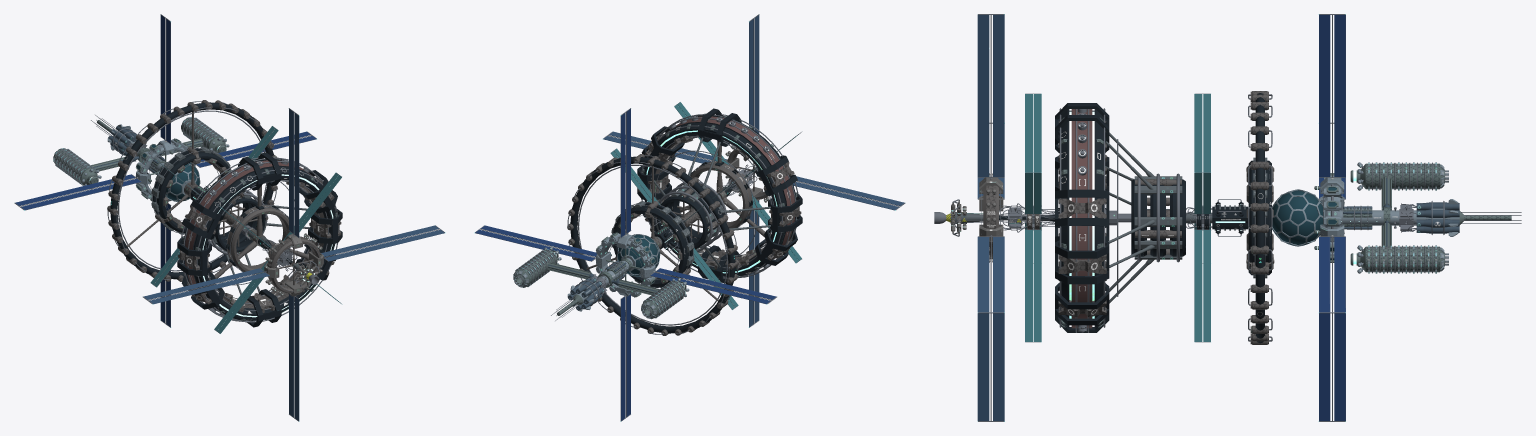
Rendered from building-base-mmo.glb.
The picture shows the model from 3 angles, left to right: view 1: azimuth 30°, elevation 25°; view 2: azimuth 150°, elevation 25°; view 3: azimuth 270°, elevation 25°; orthographic projection. The views are drawn at different scales.
Parts seen in each view (by area): view 1: Cylinder.007_low, Torus_low, Cube.016_low, Cylinder.108_low, Cube.133_low, Cube.014_low, Cube.132_low, Cube.017_low, Cube.015_low, Cylinder.111_low, Cylinder.110_low, Cube.155_low (+17 smaller); view 2: Cylinder.007_low, Torus_low, Cube.155_low, Cylinder.110_low, Cylinder.108_low, Cube.139_low, Cube.154_low, Cube.156_low, Cube.157_low, Cube.133_low, Cube.016_low, Cube.132_low (+15 smaller); view 3: Cylinder.007_low, Cylinder.108_low, Cube.016_low, Cube.017_low, Cube.154_low, Cube.155_low, Cube.140_low, Cube.003_low, Cube.002_low, Sphere_low, Cube.001_low, Cube.004_low (+22 smaller).
Boxes of the visible parts, bbox=[...] form: Cylinder.007_low: bbox=[184, 159, 335, 320]; Torus_low: bbox=[110, 102, 273, 279]; Cube.016_low: bbox=[294, 113, 299, 420]; Cylinder.108_low: bbox=[53, 117, 226, 184]; Cube.133_low: bbox=[238, 152, 281, 327]; Cube.014_low: bbox=[149, 229, 444, 304]; Cube.132_low: bbox=[177, 208, 342, 275]; Cube.017_low: bbox=[289, 109, 293, 416]; Cube.015_low: bbox=[143, 225, 438, 299]; Cylinder.111_low: bbox=[227, 205, 290, 274]; Cylinder.110_low: bbox=[153, 148, 230, 232]; Cube.155_low: bbox=[160, 15, 165, 322]; Cylinder.007_low: bbox=[644, 115, 796, 276]; Torus_low: bbox=[570, 156, 735, 333]; Cube.155_low: bbox=[620, 113, 625, 420]; Cylinder.110_low: bbox=[612, 202, 692, 287]; Cylinder.108_low: bbox=[513, 250, 686, 318]; Cube.139_low: bbox=[755, 155, 797, 265]; Cube.154_low: bbox=[626, 109, 630, 416]; Cube.156_low: bbox=[481, 225, 776, 299]; Cube.157_low: bbox=[475, 229, 770, 304]; Cube.133_low: bbox=[698, 108, 741, 283]; Cube.016_low: bbox=[754, 15, 759, 322]; Cube.132_low: bbox=[637, 166, 802, 232]; Cylinder.007_low: bbox=[1061, 109, 1103, 328]; Cylinder.108_low: bbox=[1350, 163, 1444, 272]; Cube.016_low: bbox=[977, 15, 989, 420]; Cube.017_low: bbox=[993, 15, 1004, 420]; Cube.154_low: bbox=[1319, 15, 1330, 420]; Cube.155_low: bbox=[1334, 15, 1345, 420]; Cube.140_low: bbox=[1055, 189, 1109, 325]; Cube.003_low: bbox=[1194, 94, 1202, 341]; Cube.002_low: bbox=[1033, 94, 1041, 341]; Sphere_low: bbox=[1272, 190, 1323, 245]; Cube.001_low: bbox=[1025, 94, 1032, 341]; Cube.004_low: bbox=[1203, 94, 1210, 341].
Bounding box in the file's own units: 2.99 × 2.99 × 3.9.
Materials: 5 (5 with a texture image).
